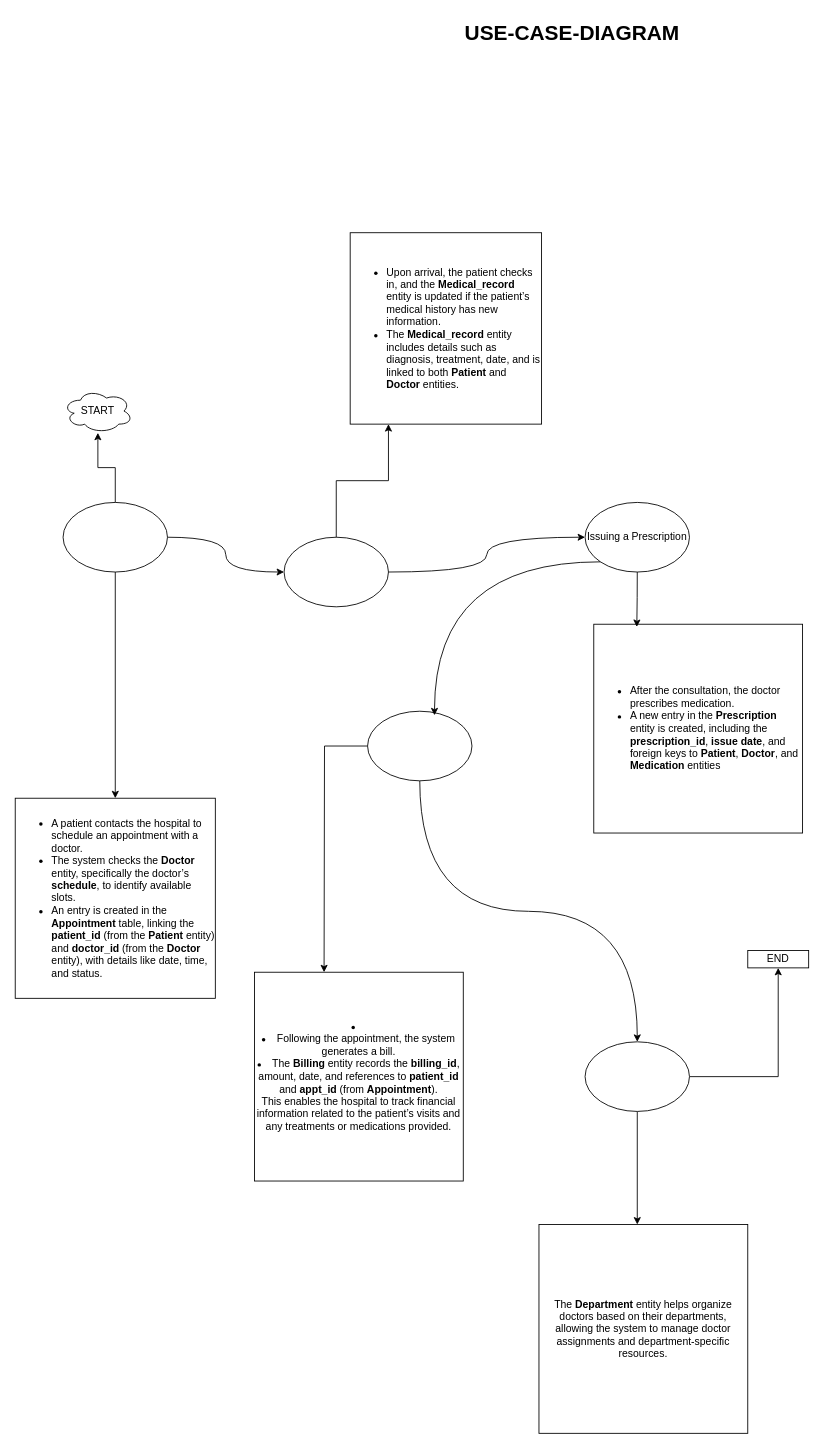
Image size: 835x1449. Some labels were removed from this diagram. Each missing label, with the centre of its shape:
"Billing" belongs at point 419,745.
"Department Management" belongs at point 636,1076.
"Patient Check-in and Medical Record Update" belongs at point 335,571.
"Scheduling an Appointment" belongs at point 114,537.
